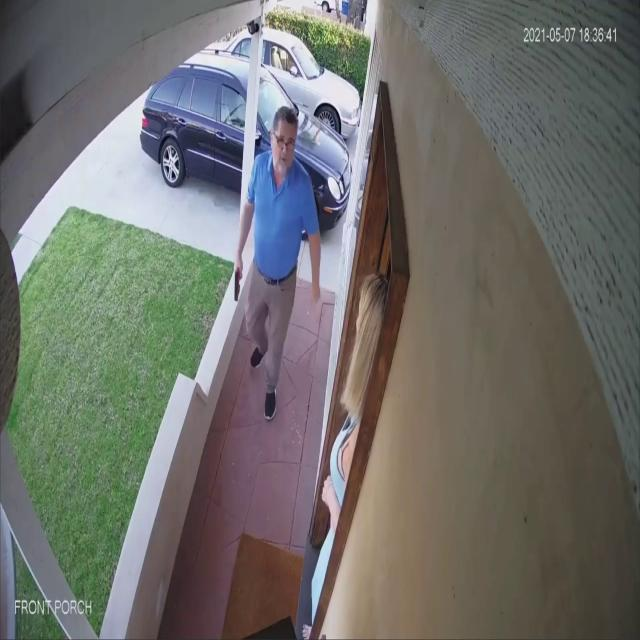Gun: (223, 260, 249, 307)
